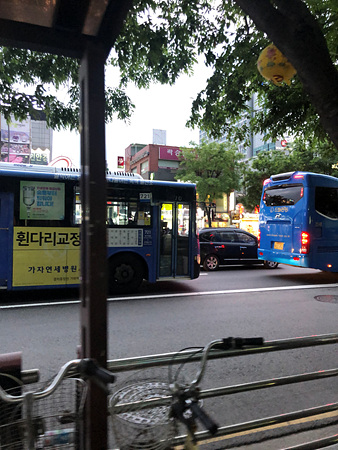entrance: (155, 196, 194, 279)
